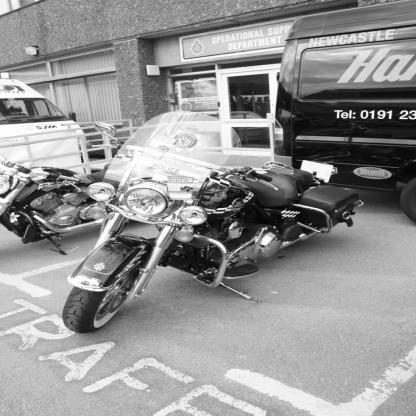moto: (72, 111, 362, 350), (1, 144, 107, 245)
